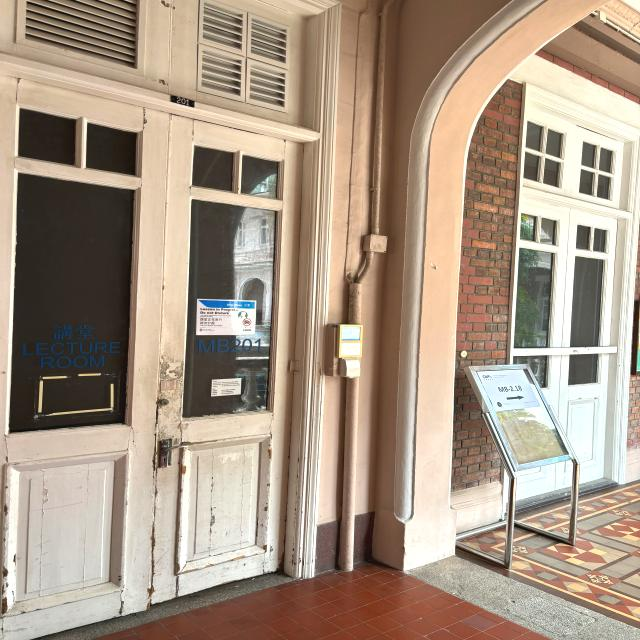MB201_roomNum: (164, 89, 200, 115)
MB201_windowNum: (194, 336, 264, 359)
